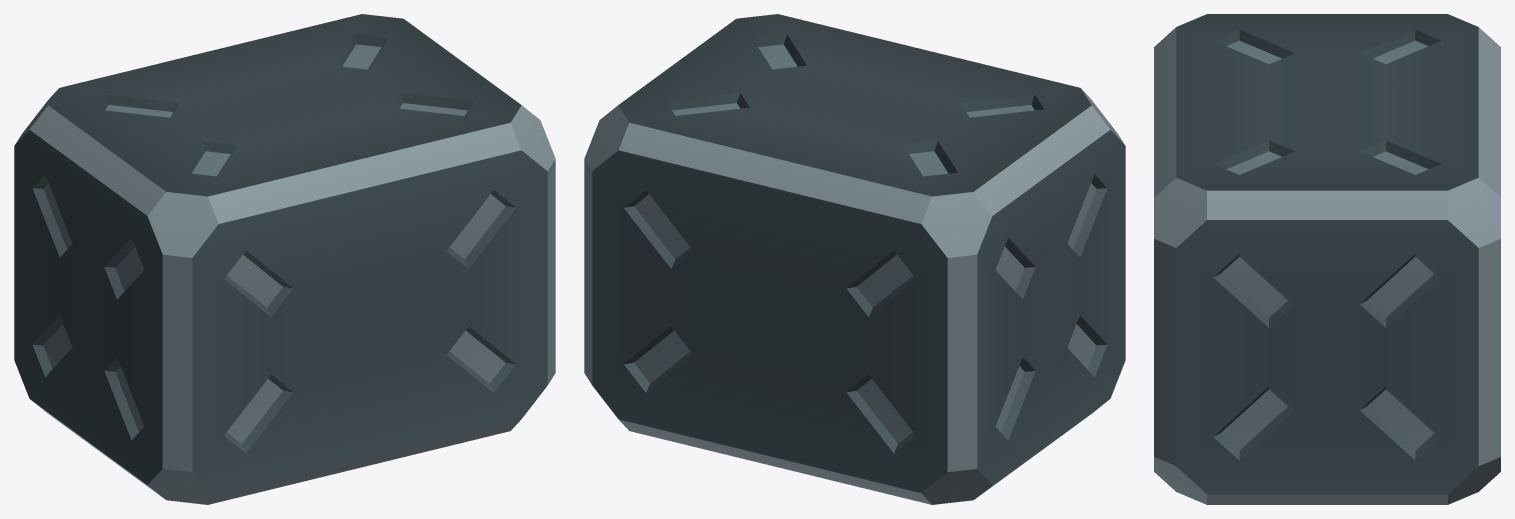
3 views of the same model, side by side, from view 1: azimuth 30°, elevation 25°; view 2: azimuth 150°, elevation 25°; view 3: azimuth 270°, elevation 25° (orthographic).
Parts seen in each view (by area): view 1: Box_004; view 2: Box_004; view 3: Box_004.
Boxes of the visible parts, <box> form: Box_004: <box>14,14,555,504</box>; Box_004: <box>584,14,1125,504</box>; Box_004: <box>1154,14,1500,504</box>.
Bounding box in the file's own units: 0.8 × 0.6 × 0.6.
1 material, 1 textured.
